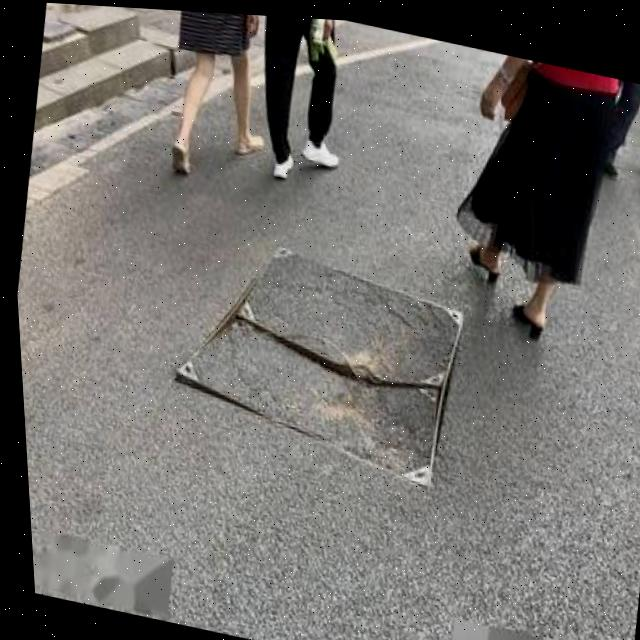manhole: (150, 207, 476, 495)
